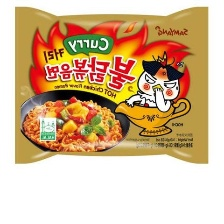snack: (7, 0, 217, 172)
